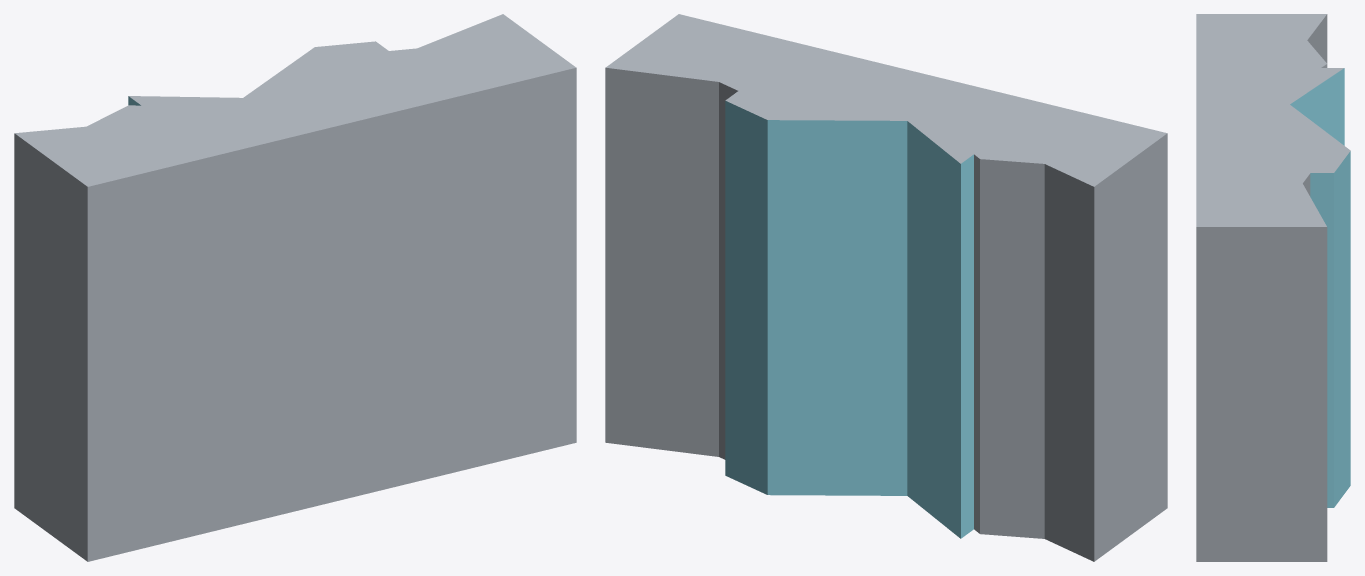
The model's file is Grey_Waterfall_01.fbx.
3 views of the same model, side by side, from view 1: azimuth 30°, elevation 25°; view 2: azimuth 150°, elevation 25°; view 3: azimuth 270°, elevation 25° (orthographic). The views are drawn at different scales.
Visible parts, largest first — view 1: Mesh1_Grey_Waterfall Model; view 2: Mesh1_Grey_Waterfall Model; view 3: Mesh1_Grey_Waterfall Model.
Part boxes in pixels (box(x1,y1,x2,y2)): Mesh1_Grey_Waterfall Model: box(14, 14, 576, 561); Mesh1_Grey_Waterfall Model: box(605, 14, 1167, 561); Mesh1_Grey_Waterfall Model: box(1196, 14, 1350, 561).
Bounding box in the file's own units: 3 × 2.2 × 0.92.
